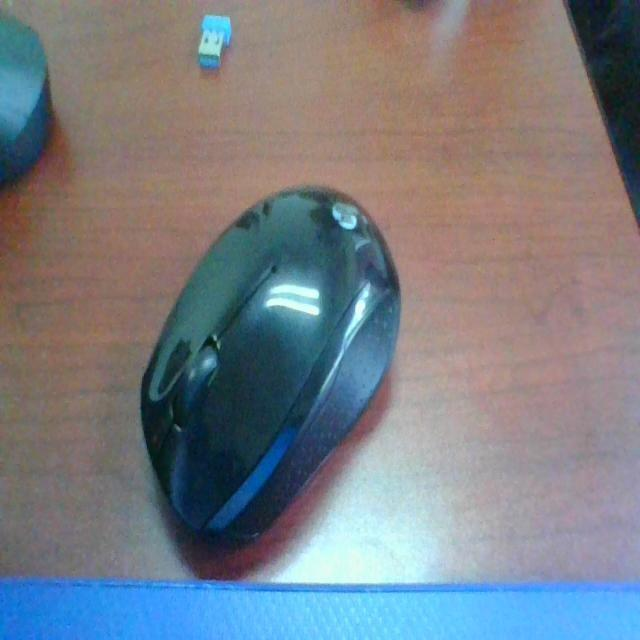Mouse: (142, 182, 386, 539)
